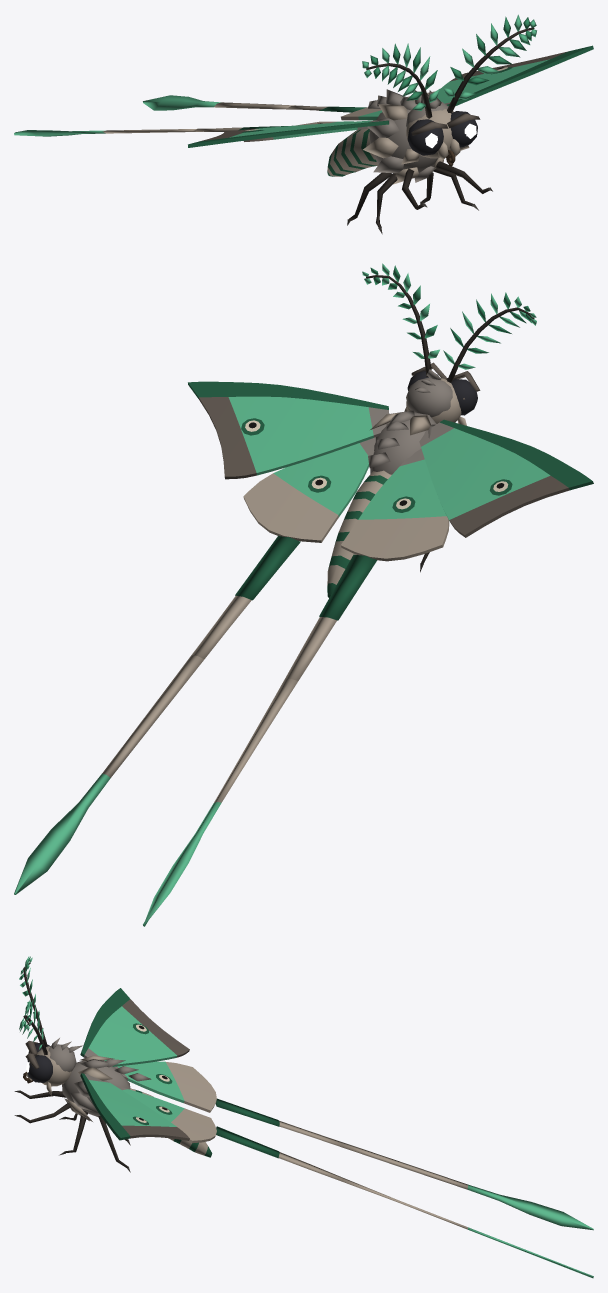
File: moth-long-tail.glb
The picture shows the model from 3 angles, top to bottom: view 1: azimuth 30°, elevation 25°; view 2: azimuth 150°, elevation 25°; view 3: azimuth 270°, elevation 25°; orthographic projection. The views are drawn at different scales.
Parts seen in each view (by area): view 1: body, glide_wing_0, sway_feeler_l, glide_wing_1, turn_head, sway_feeler_r, pulse_abdomen, blink_eye_r, wave_tail_l_2, blink_eye_l, wave_tail_r_2, wave_tail_l_1 (+2 smaller); view 2: glide_wing_0, glide_wing_1, body, wave_tail_r_0, wave_tail_l_0, wave_tail_l_2, turn_head, pulse_abdomen, wave_tail_l_1, sway_feeler_r, sway_feeler_l, wave_tail_r_1 (+1 smaller); view 3: glide_wing_1, glide_wing_0, body, turn_head, wave_tail_r_2, wave_tail_l_0, wave_tail_r_0, wave_tail_r_1, blink_eye_l, sway_feeler_l, sway_feeler_r, wave_tail_l_1.
Boxes of the visible parts, left/top/right/bottom form: body: left=347, top=89, right=492, bottom=234; glide_wing_0: left=341, top=45, right=593, bottom=120; sway_feeler_l: left=443, top=14, right=536, bottom=113; glide_wing_1: left=188, top=120, right=389, bottom=147; turn_head: left=401, top=90, right=480, bottom=166; sway_feeler_r: left=362, top=43, right=439, bottom=118; pulse_abdomen: left=327, top=128, right=377, bottom=176; blink_eye_r: left=407, top=119, right=443, bottom=155; wave_tail_l_2: left=143, top=95, right=220, bottom=110; blink_eye_l: left=450, top=111, right=477, bottom=147; wave_tail_r_2: left=14, top=130, right=105, bottom=136; wave_tail_l_1: left=214, top=102, right=295, bottom=109; glide_wing_0: left=188, top=381, right=389, bottom=542; glide_wing_1: left=340, top=419, right=593, bottom=561; body: left=368, top=410, right=436, bottom=572; wave_tail_r_0: left=285, top=554, right=377, bottom=680; wave_tail_l_0: left=192, top=535, right=300, bottom=659; wave_tail_l_2: left=14, top=773, right=110, bottom=894; turn_head: left=404, top=362, right=480, bottom=425; pulse_abdomen: left=327, top=470, right=391, bottom=597; wave_tail_l_1: left=102, top=655, right=204, bottom=777; sway_feeler_r: left=443, top=292, right=536, bottom=382; sway_feeler_l: left=362, top=263, right=439, bottom=376; wave_tail_r_1: left=214, top=679, right=298, bottom=802; glide_wing_1: left=80, top=988, right=216, bottom=1112; glide_wing_0: left=80, top=1073, right=216, bottom=1143; body: left=14, top=1055, right=151, bottom=1172; turn_head: left=23, top=1038, right=82, bottom=1096; wave_tail_r_2: left=467, top=1184, right=593, bottom=1230; wave_tail_l_0: left=216, top=1126, right=342, bottom=1181; wave_tail_r_0: left=215, top=1098, right=342, bottom=1147; wave_tail_r_1: left=342, top=1142, right=467, bottom=1189; blink_eye_l: left=26, top=1055, right=52, bottom=1082; sway_feeler_l: left=19, top=999, right=47, bottom=1055; sway_feeler_r: left=19, top=956, right=47, bottom=1046; wave_tail_l_1: left=341, top=1177, right=467, bottom=1229.
Size of the model in its own units: 0.8921 by 0.7584 by 1.45.
